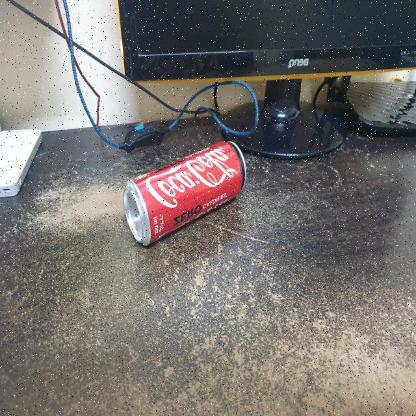Can: (118, 134, 248, 256)
